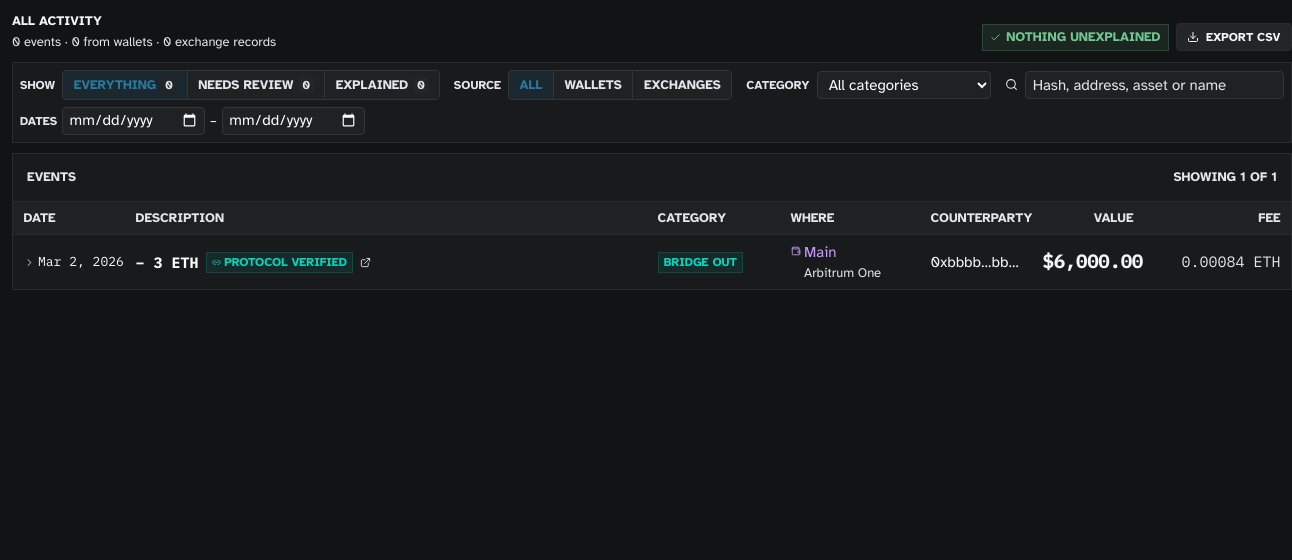
Scenario: CryptoLedger › renders a linked bridge pair as one event, with the far side stated
Expected: the text "Showing 1 of 1" is shown, top-left (1173, 168), bottom-right (1277, 187)
Expected: the text "Protocol verified" is shown, top-left (206, 252), bottom-right (353, 273)
What coordinates should you click on to do the following:
click the text "− 3 ETH"
I would click on:
 (167, 262)
Its box is top-left (136, 252), bottom-right (198, 273).
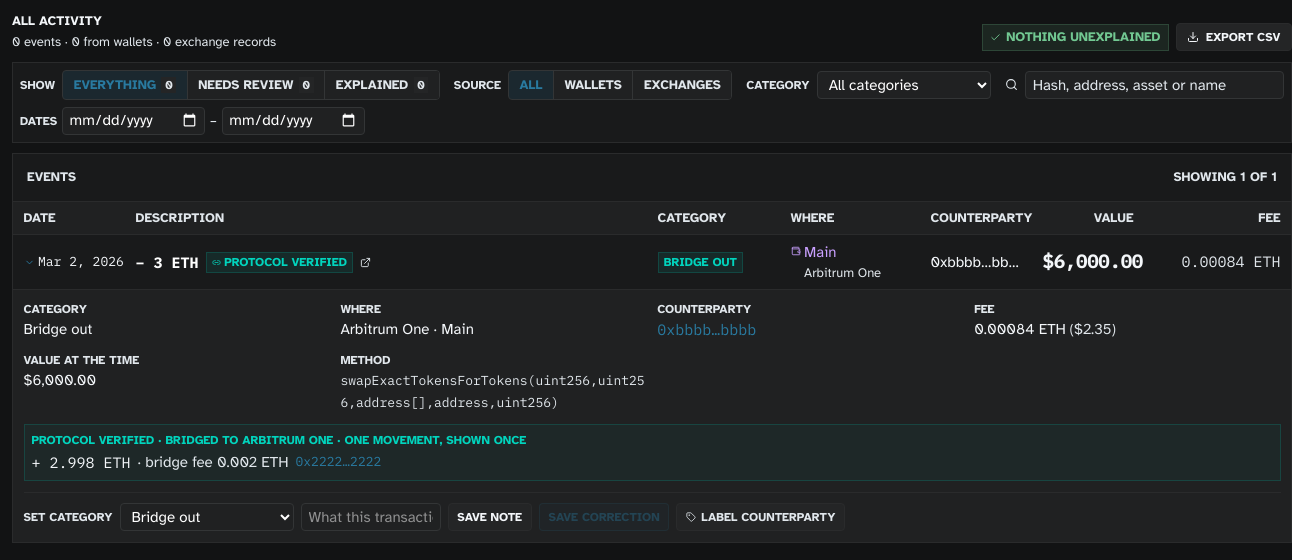
Expected: the text "Protocol verified · bridged to Arbitrum One" is shown, top-left (32, 433), bottom-right (526, 447)
Expected: the text "+ 2.998 ETH" is shown, top-left (32, 452), bottom-right (130, 474)
Expected: the text "· bridge fee 0.002 ETH" is shown, top-left (138, 452), bottom-right (288, 474)
